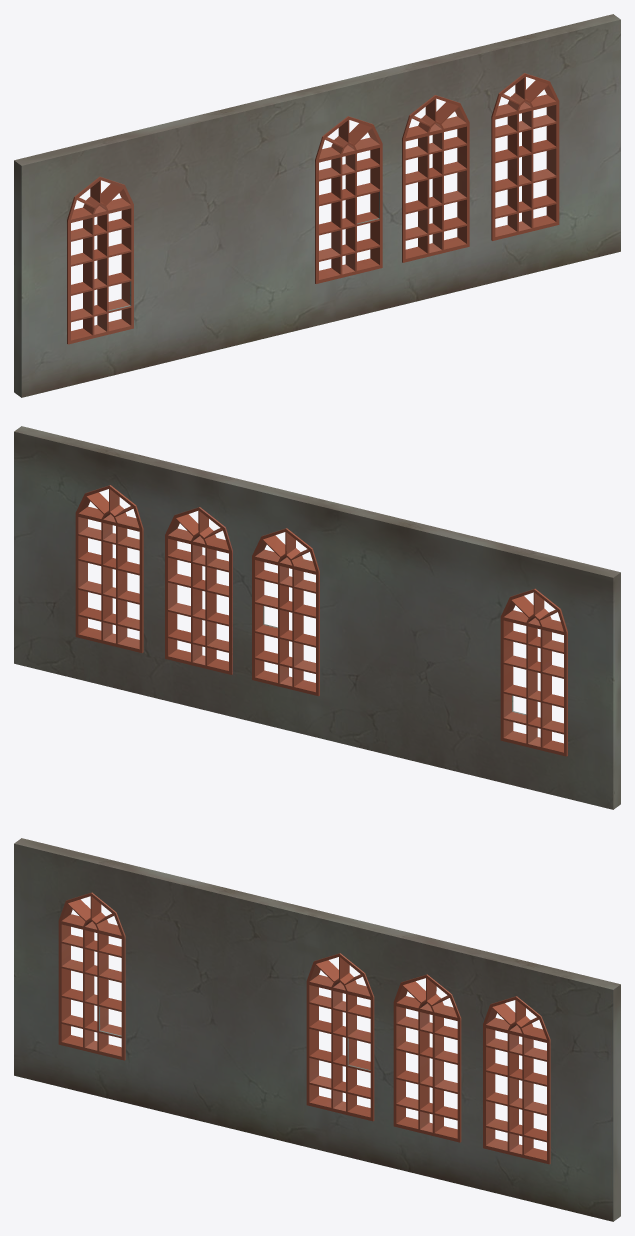
File: Mur_fenetres.FBX
The picture shows the model from 3 angles, top to bottom: view 1: azimuth 30°, elevation 25°; view 2: azimuth 150°, elevation 25°; view 3: azimuth 330°, elevation 25°; orthographic projection.
Visible parts, largest first — view 1: Murs avec fenetres; view 2: Murs avec fenetres; view 3: Murs avec fenetres.
Part boxes in pixels (bbox=[...]): Murs avec fenetres: bbox=[14, 14, 620, 397]; Murs avec fenetres: bbox=[14, 426, 620, 809]; Murs avec fenetres: bbox=[14, 838, 620, 1221].
Bounding box in the file's own units: 3229 × 1195 × 89.31.
